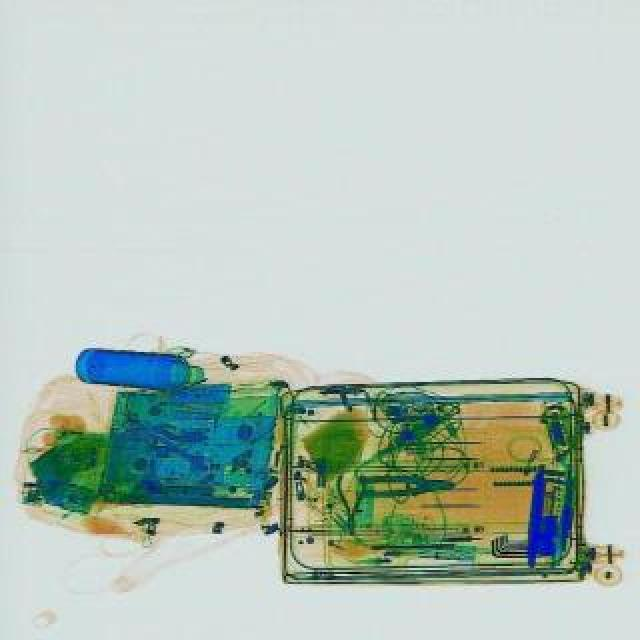wrench: (358, 474, 454, 498), (334, 474, 368, 534)
